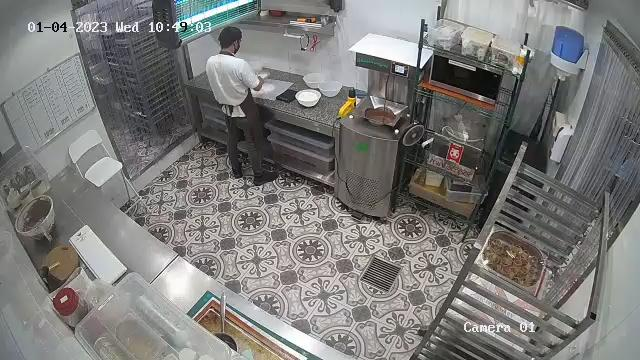apron: (218, 97, 258, 117)
